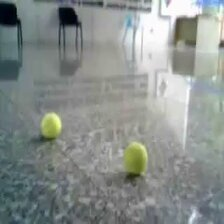tennis: (125, 142, 148, 176), (39, 111, 61, 138)
